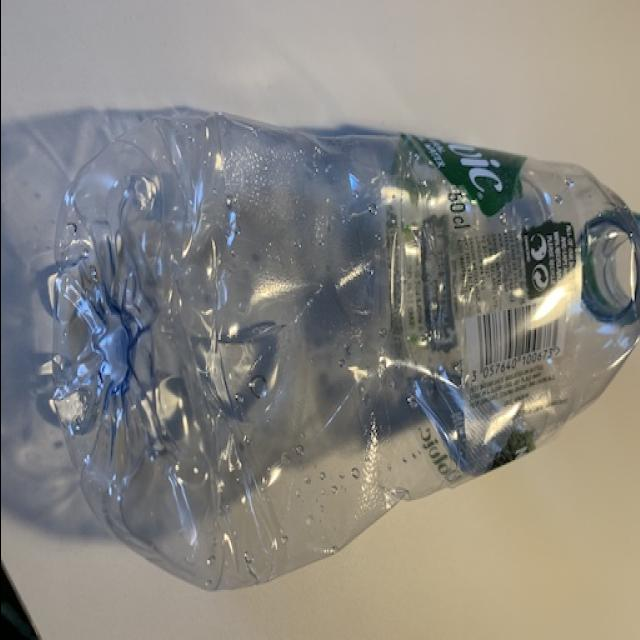litter: (47, 111, 638, 594)
